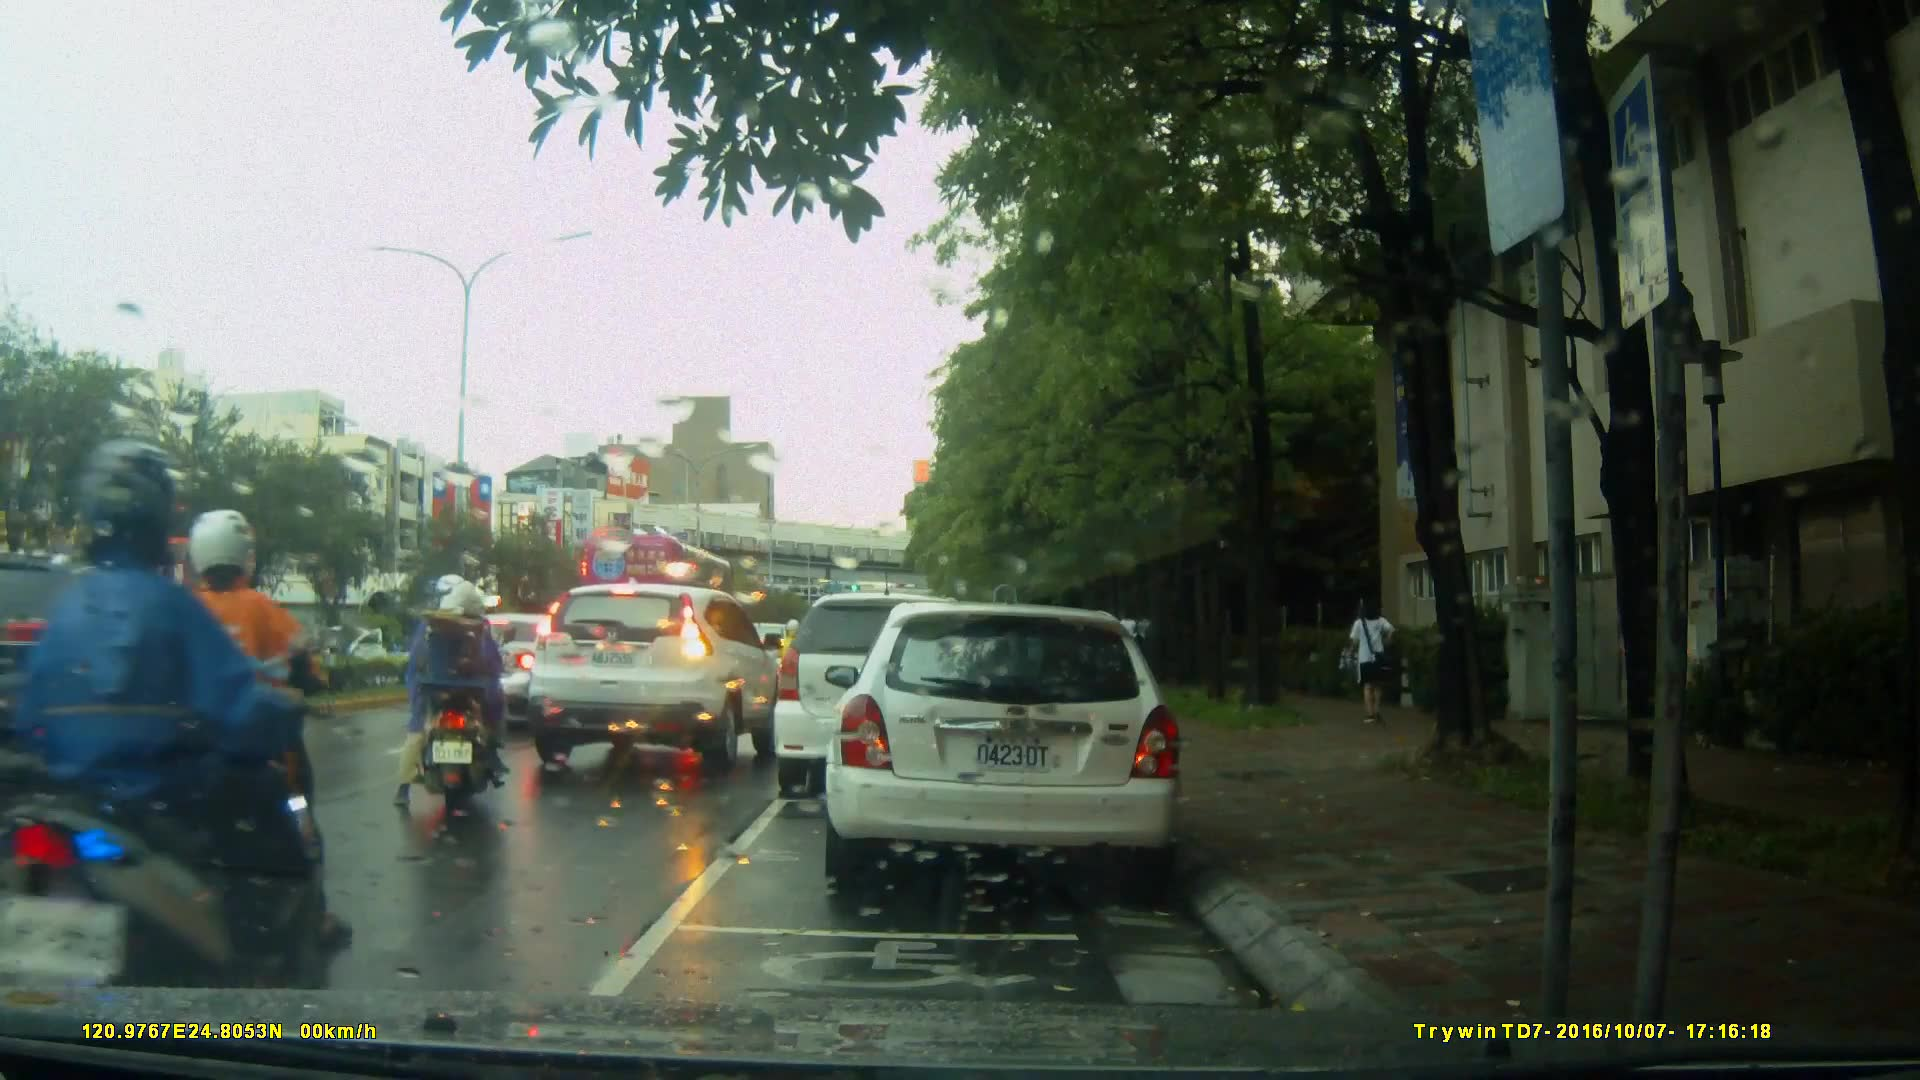pedestrian: (1337, 587, 1401, 741), (1116, 603, 1145, 685)
rider: (8, 431, 338, 1039), (72, 505, 328, 967), (402, 585, 516, 818), (416, 589, 495, 778), (774, 614, 806, 712)
vehicle: (835, 594, 1194, 898), (1, 546, 269, 768), (515, 584, 795, 778), (776, 590, 1026, 784), (575, 530, 737, 634)
